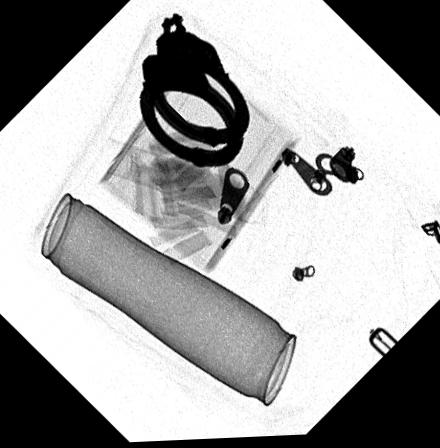HandCuffs: (138, 14, 249, 170)
